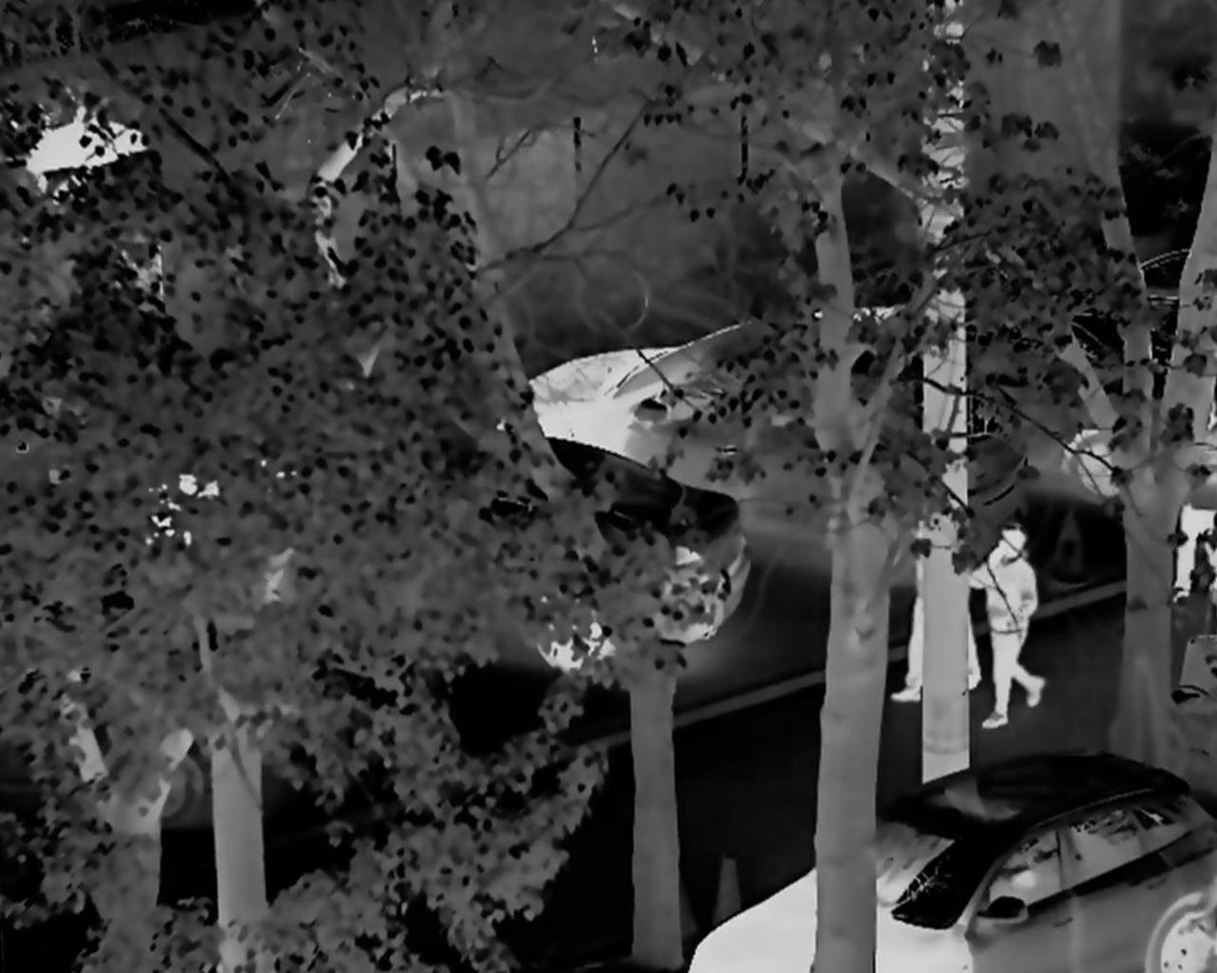person: (964, 515, 1054, 730), (896, 519, 983, 711), (1169, 451, 1217, 622)
